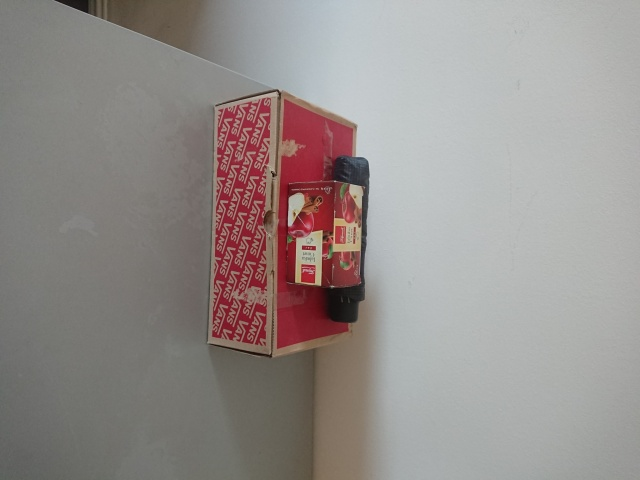Franck Apple Cinnamon Tea 60g: (283, 179, 365, 289)
